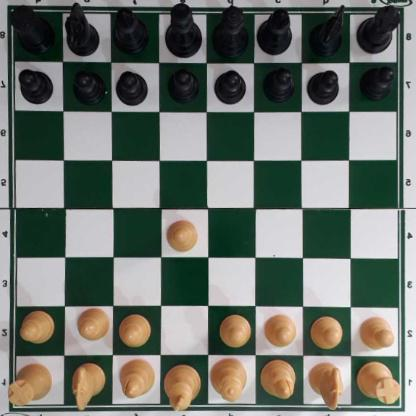black-bishop: (113, 5, 149, 53), (257, 7, 293, 54)
black-king: (166, 2, 204, 57)
black-knight: (310, 4, 345, 57), (66, 1, 99, 57)
black-pawn: (19, 67, 54, 104), (73, 67, 105, 104), (360, 65, 394, 99), (214, 67, 246, 103), (168, 67, 200, 103), (309, 67, 340, 104), (116, 69, 148, 104), (264, 66, 295, 101)
black-queen: (211, 5, 249, 56)
black-rook: (356, 6, 402, 52), (12, 5, 55, 53)
white-bishop: (120, 357, 155, 400), (262, 358, 297, 400)
white-king: (167, 361, 199, 411)
white-knight: (73, 361, 106, 411), (310, 361, 342, 410)
white-pawn: (358, 315, 396, 348), (20, 310, 56, 344), (265, 312, 298, 347), (166, 218, 200, 251), (120, 313, 153, 346), (77, 307, 109, 341), (219, 313, 251, 346), (311, 315, 343, 348)
white-queen: (212, 354, 247, 404)
white-rook: (357, 360, 402, 403), (8, 362, 53, 405)
